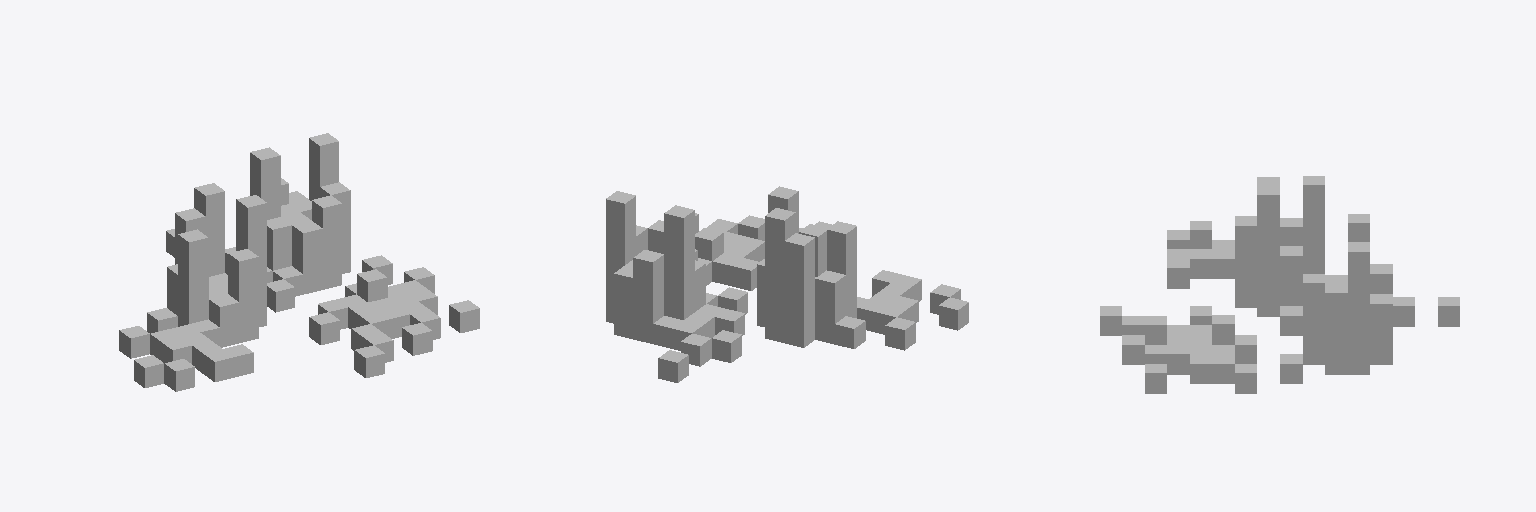
The model's file is BrokenCups.obj.
3 views of the same model, side by side, from view 1: azimuth 30°, elevation 25°; view 2: azimuth 150°, elevation 25°; view 3: azimuth 270°, elevation 25° (orthographic).
Parts seen in each view (by area): view 1: object 1; view 2: object 1; view 3: object 1.
Boxes of the visible parts, <box> form: object 1: <box>119,133,479,391</box>; object 1: <box>606,186,968,382</box>; object 1: <box>1100,176,1459,393</box>.
Bounding box in the file's own units: 1.6 × 0.6 × 1.6.